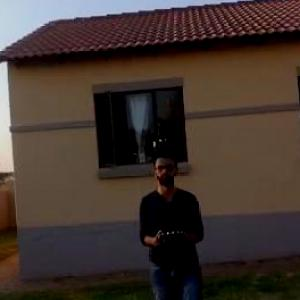follow: (132, 142, 208, 299)
